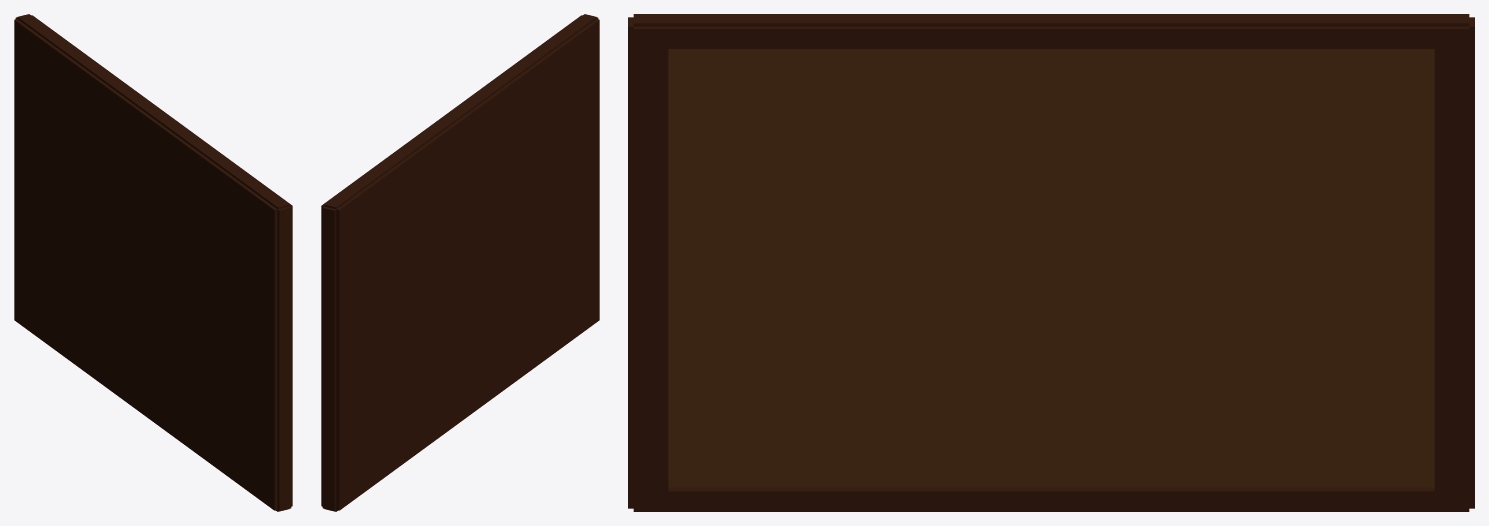
Rendered from tablica.obj.
The picture shows the model from 3 angles, left to right: view 1: azimuth 30°, elevation 25°; view 2: azimuth 150°, elevation 25°; view 3: azimuth 270°, elevation 25°; orthographic projection. The views are drawn at different scales.
Visible parts, largest first — view 1: Cube; view 2: Cube; view 3: Cube.
Part boxes in pixels (bbox=[...]): Cube: bbox=[14, 14, 292, 511]; Cube: bbox=[321, 14, 599, 511]; Cube: bbox=[628, 14, 1474, 511].
Bounding box in the file's own units: 0.2222 × 3.54 × 5.56.
